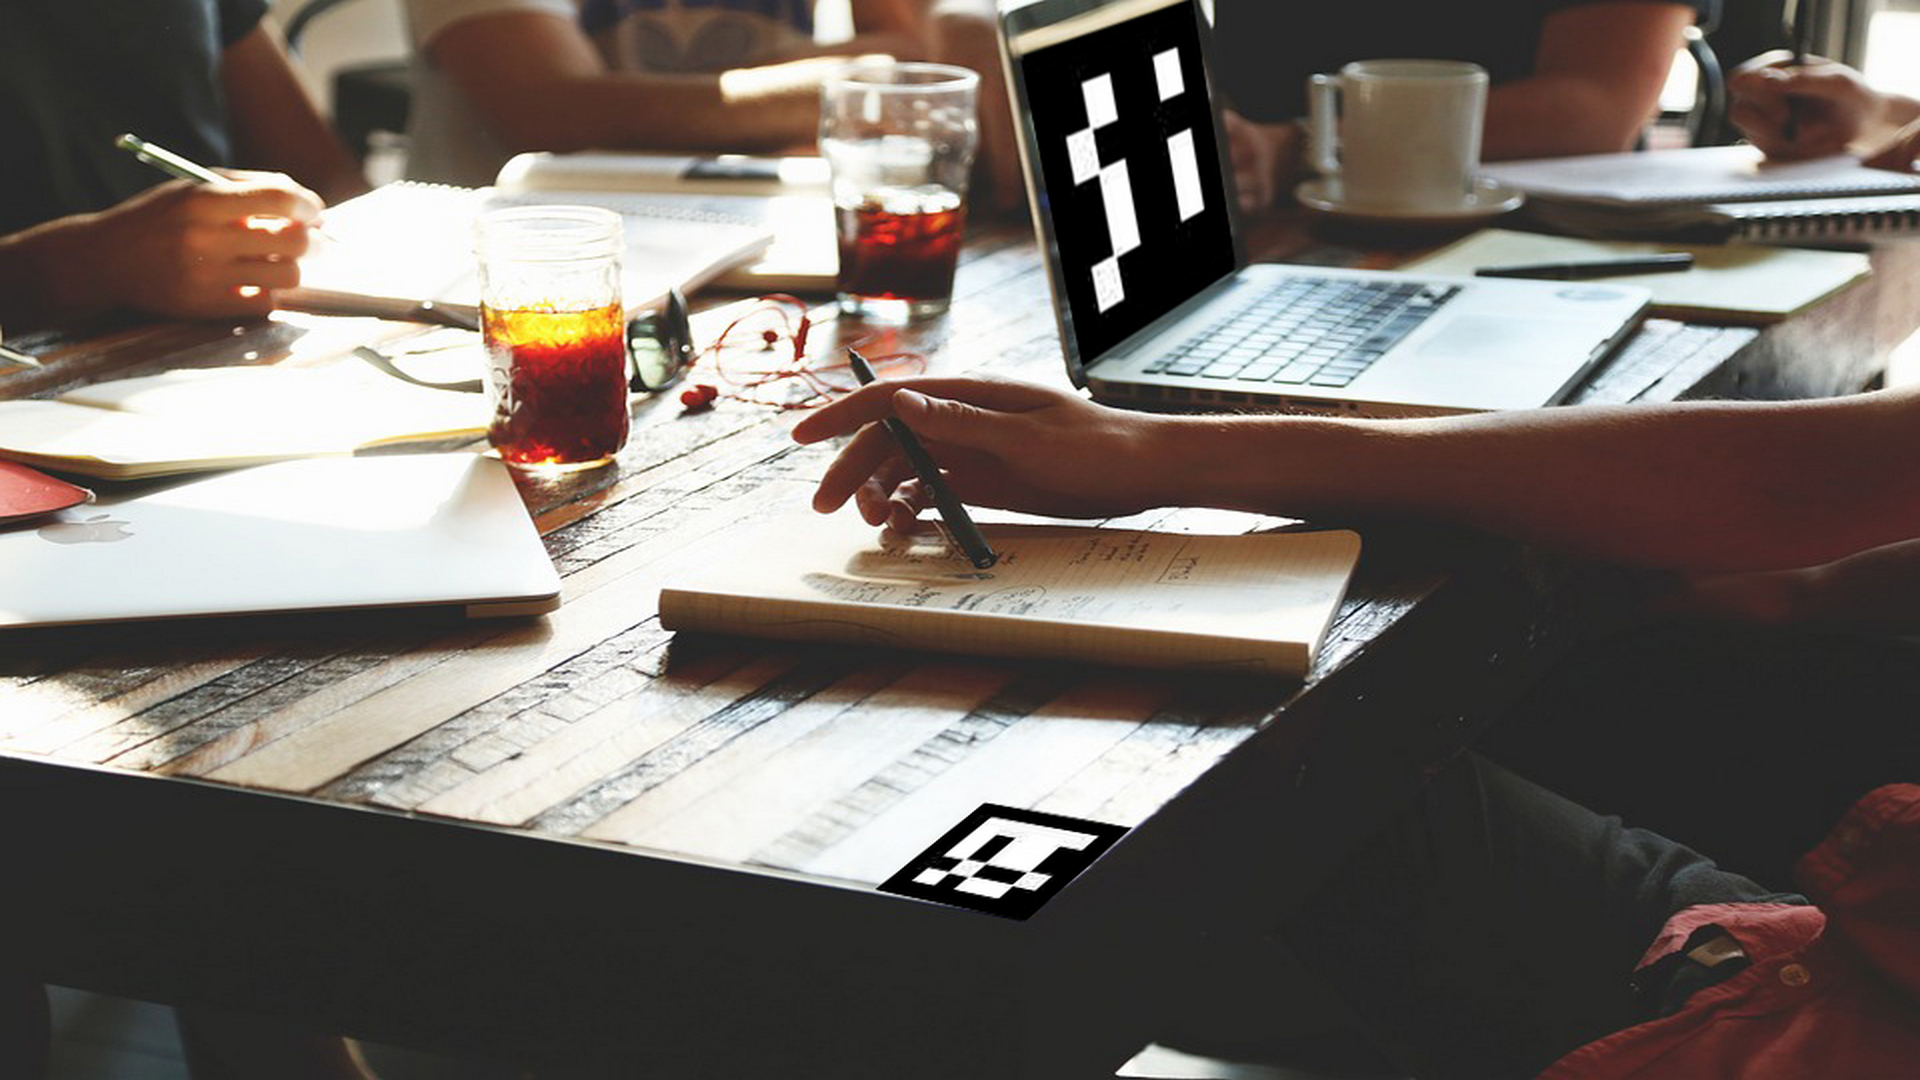marker: (1019, 1, 1237, 369), (873, 796, 1133, 924)
